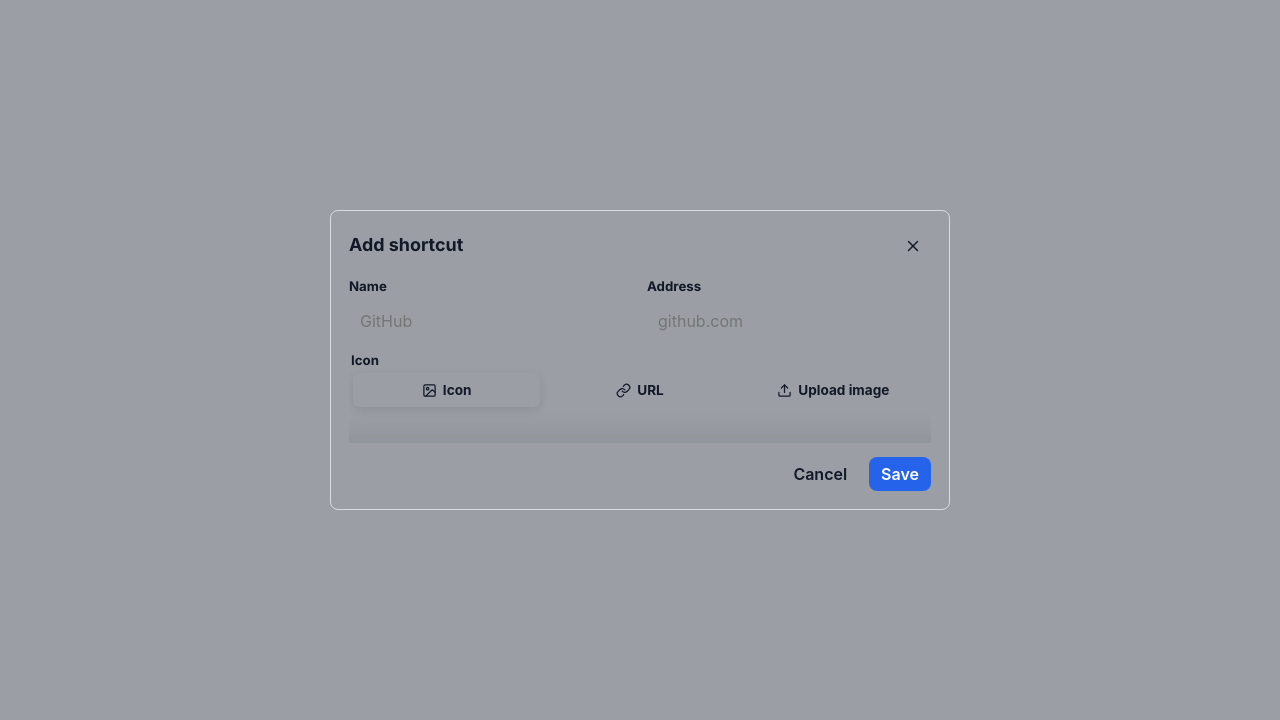
ShortcutModal › labels manually entered icon URLs as previews
Step 1. Click the button "URL" → click(640, 390), box [546,373,734,407]
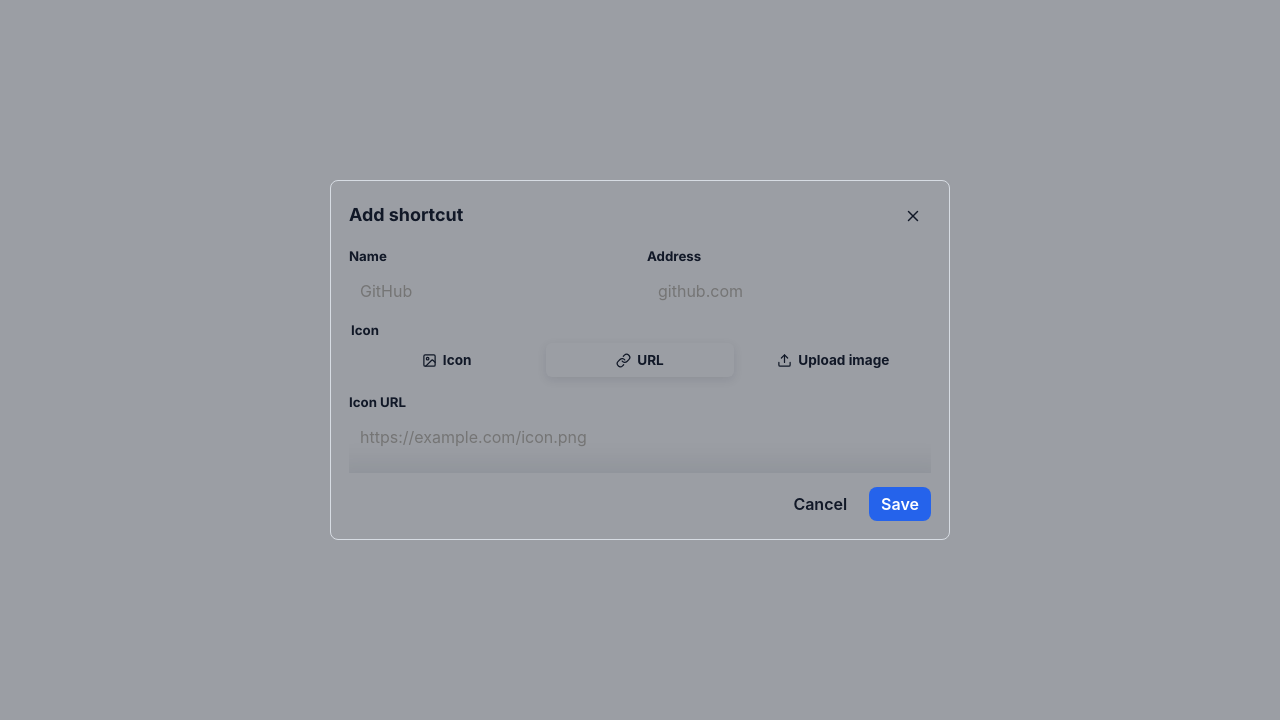
Step 2. Type "https://example.com/icon.svg" into the field labelled "Icon URL" → (640, 437), box [349,419,931,455]
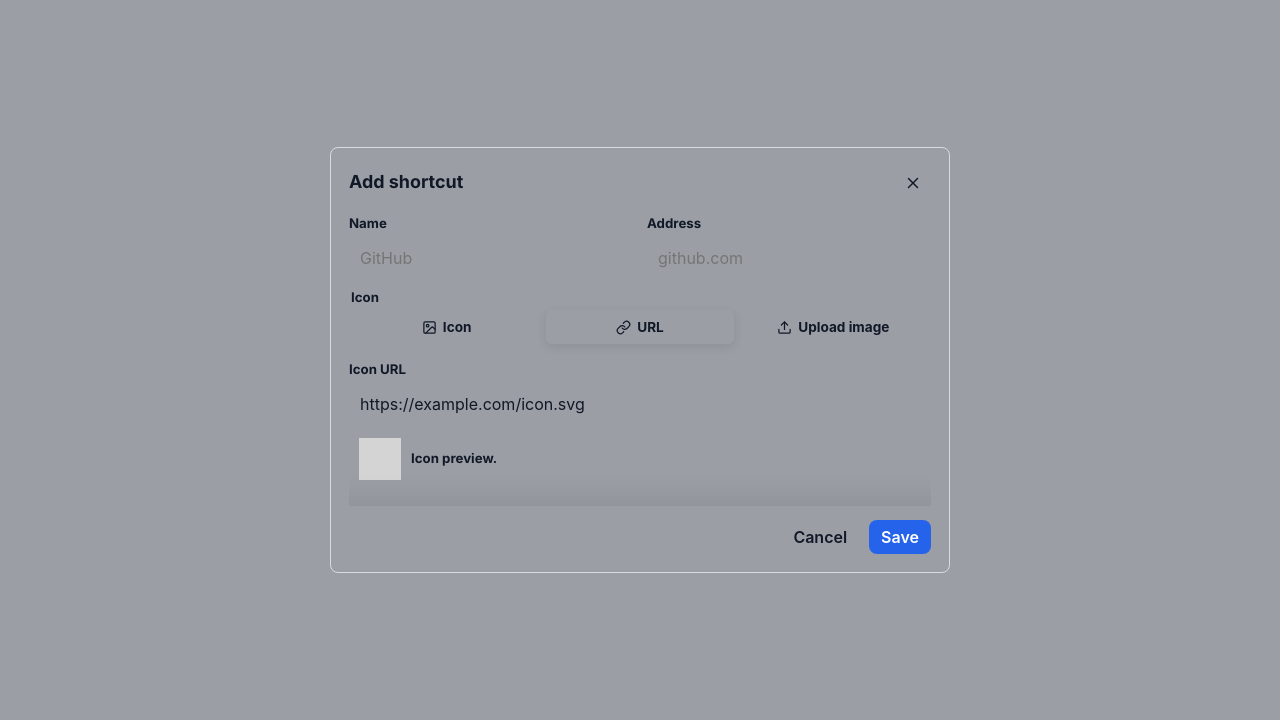
Expected: the text "Icon preview." is shown, [411,451,497,467]
